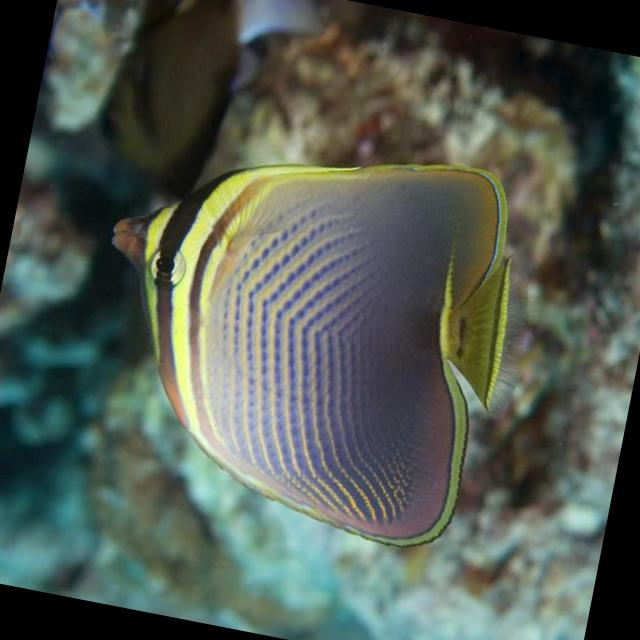ButterflyFish: (32, 75, 559, 572)
